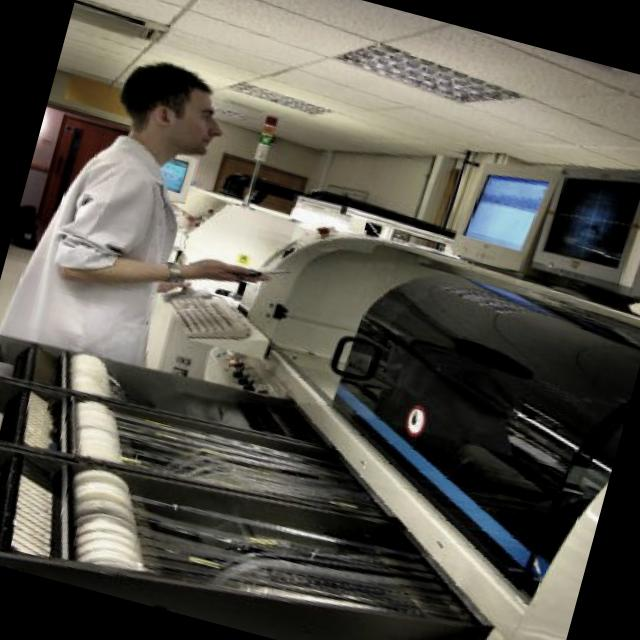Person: (0, 37, 321, 399)
